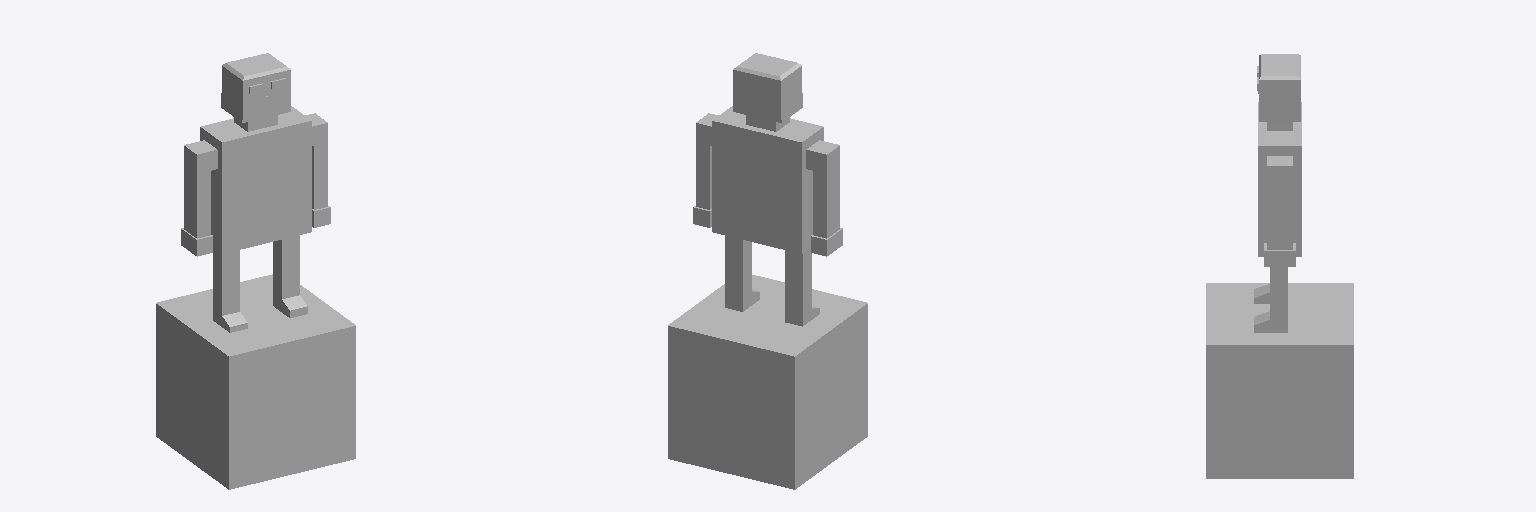
The model's file is Character.obj.
3 renders of one model, left to right at view 1: azimuth 30°, elevation 25°; view 2: azimuth 150°, elevation 25°; view 3: azimuth 270°, elevation 25°, orthographic.
Parts seen in each view (by area): view 1: Cube, Player; view 2: Cube, Player; view 3: Cube, Player.
Part boxes in pixels (left/top/right/bottom): Cube: left=156, top=274, right=355, bottom=489; Player: left=181, top=53, right=330, bottom=332; Cube: left=668, top=275, right=867, bottom=489; Player: left=693, top=53, right=842, bottom=326; Cube: left=1206, top=283, right=1353, bottom=478; Player: left=1254, top=54, right=1301, bottom=332.
Bounding box in the file's own units: 2.1 × 5.75 × 2.